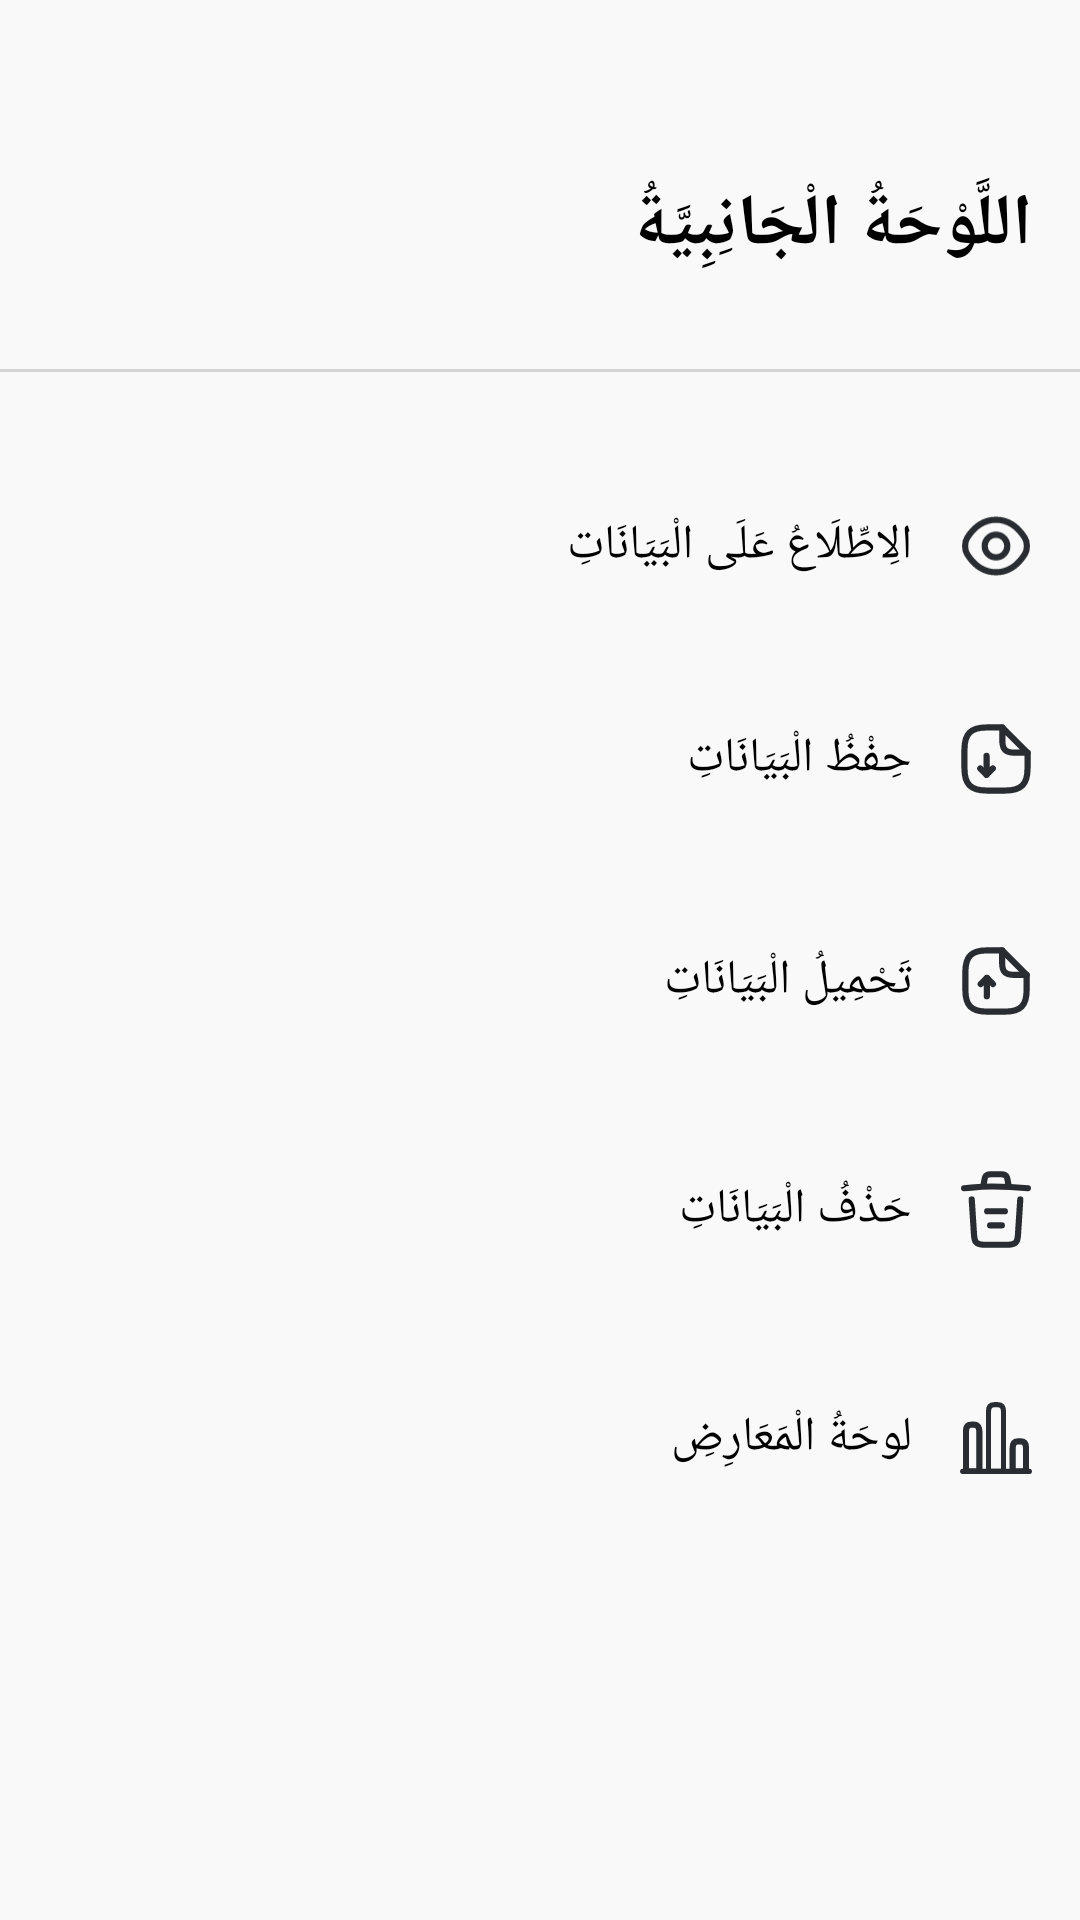

Screen size 1080 × 1920. Icon name, then its box in pixels as [left=x1, top=y1, right=x2, bottom=y2]:
dashboard: [left=960, top=1402, right=1032, bottom=1474]
delete data: [left=961, top=1171, right=1031, bottom=1248]
load data: [left=962, top=947, right=1030, bottom=1015]
save data: [left=961, top=724, right=1031, bottom=794]
view data: [left=962, top=516, right=1030, bottom=576]
